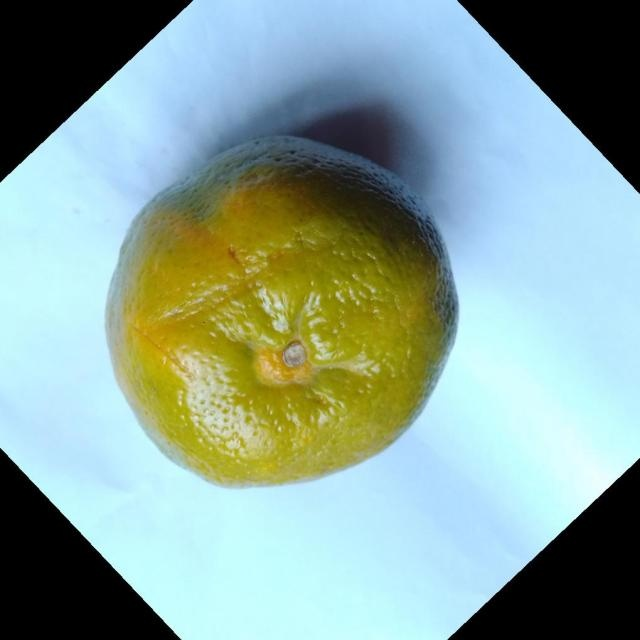agrume: (103, 133, 460, 489)
